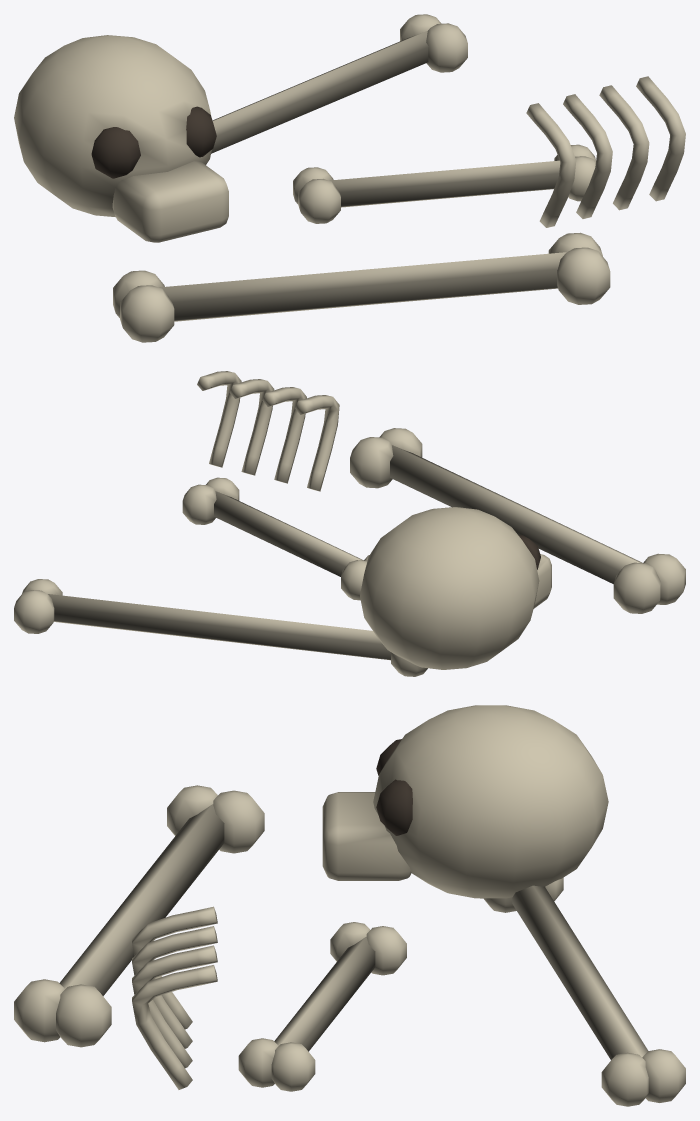
File: kit_d_bones.glb
3 renders of one model, top to bottom at view 1: azimuth 30°, elevation 25°; view 2: azimuth 150°, elevation 25°; view 3: azimuth 270°, elevation 25°, orthographic. The views are drawn at different scales.
Visible parts, largest first — view 1: kit_d_bones; view 2: kit_d_bones; view 3: kit_d_bones.
Boxes of the visible parts, x1,y1,x2,y2 form: kit_d_bones: [14, 14, 685, 342]; kit_d_bones: [14, 371, 685, 676]; kit_d_bones: [14, 705, 685, 1106].
Size of the model in its own units: 0.4439 by 0.134 by 0.4395.
